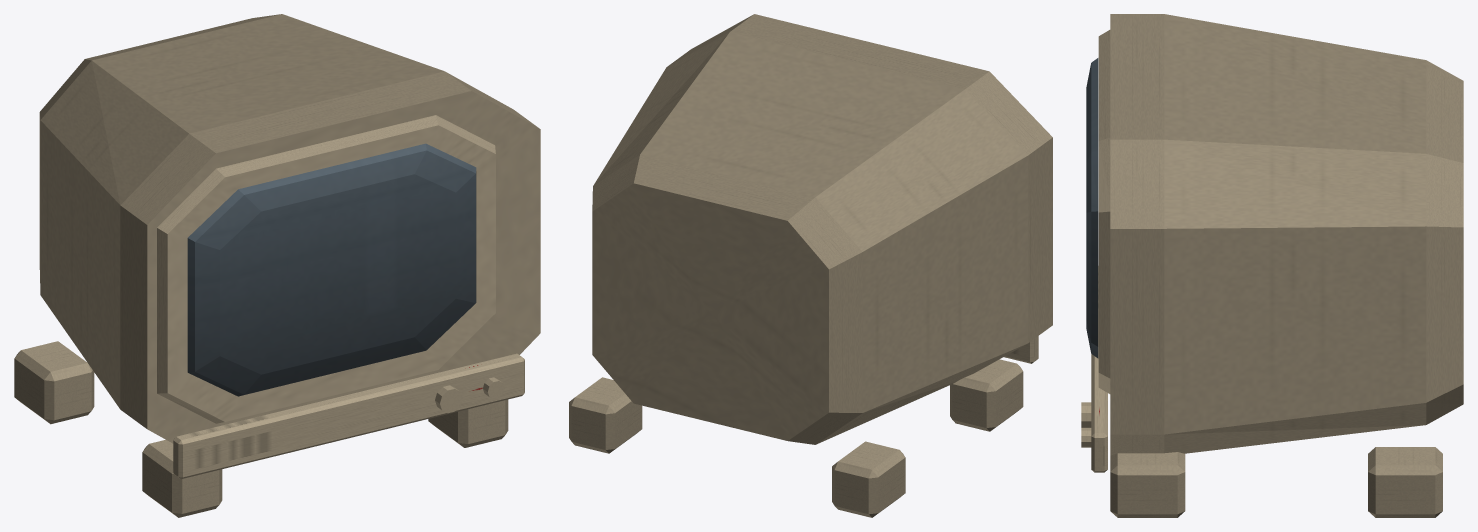
Rendered from crt_tv.glb.
3 views of the same model, side by side, from view 1: azimuth 30°, elevation 25°; view 2: azimuth 150°, elevation 25°; view 3: azimuth 270°, elevation 25° (orthographic). The views are drawn at different scales.
Parts seen in each view (by area): view 1: home_crt_tv; view 2: home_crt_tv; view 3: home_crt_tv.
Part boxes in pixels (x1,y1,x2,y2): home_crt_tv: (14,14,540,517); home_crt_tv: (569,14,1052,517); home_crt_tv: (1081,14,1463,517).
Size of the model in its own units: 0.55 by 0.48 by 0.46.
Materials: 1 (1 with a texture image).
